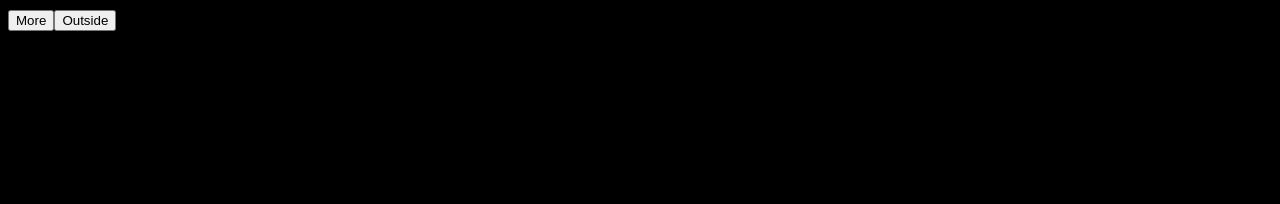
Test: Menu › selecting an item calls onSelect, closes and returns focus to the trigger
Click the button "More" at (31, 20), box [8,10,54,31]
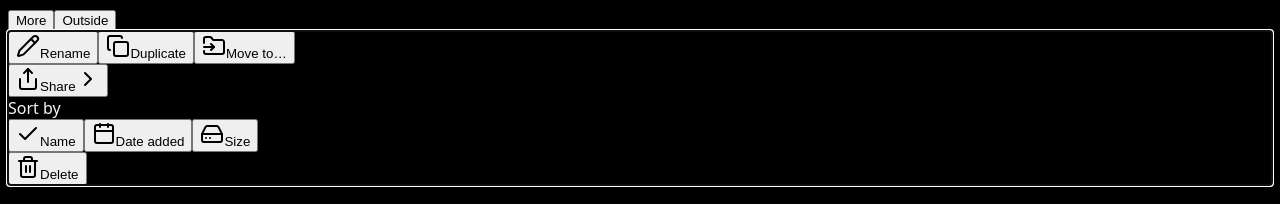
Click the menu item "Delete" at (47, 168), box [8,152,86,185]
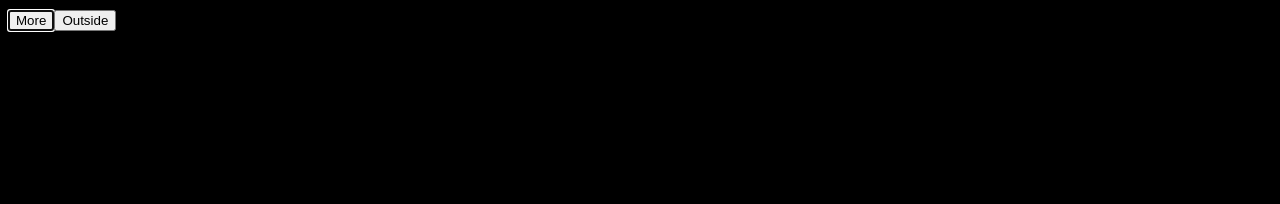
Check: the menu is gone
